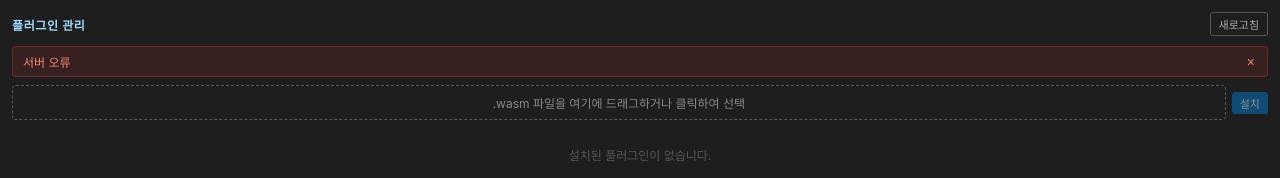
Test case: PluginManager › dismisses error banner when × clicked
This screenshot has width=1280, height=178.
expect the message "서버 오류 ×" is shown: met, box x1=12 y1=46 x2=1268 y2=77
Click the button "×". click: (1251, 62)
box: x1=1245 y1=54 x2=1257 y2=68
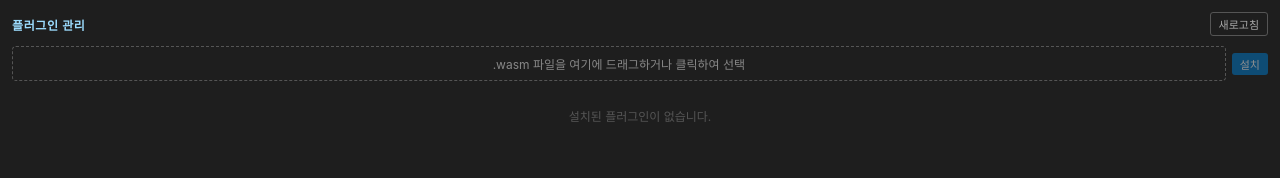
expect the message "서버 오류 ×" is gone: met
